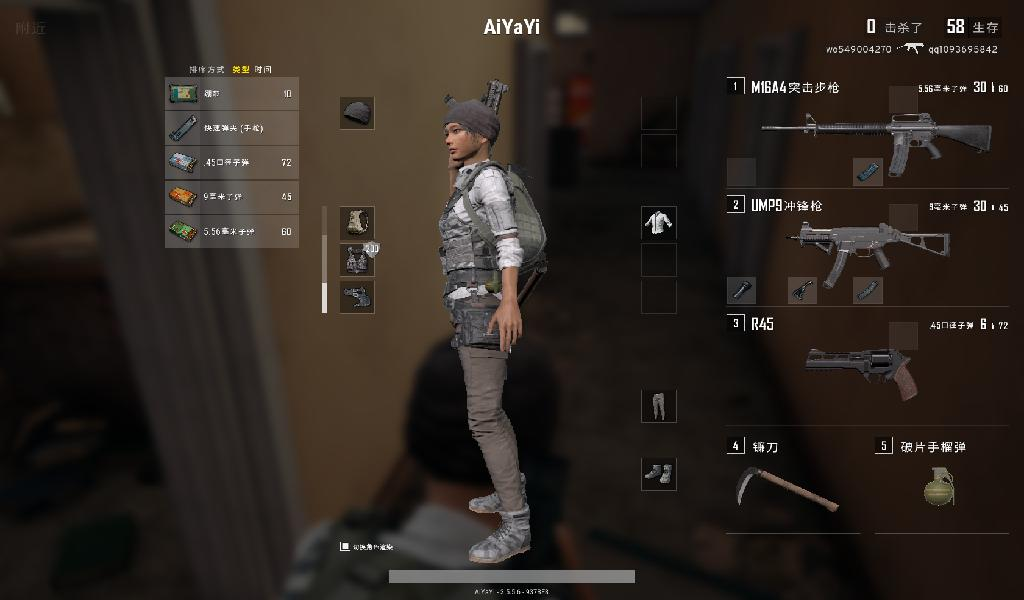Target Person: (429, 76, 552, 567)
